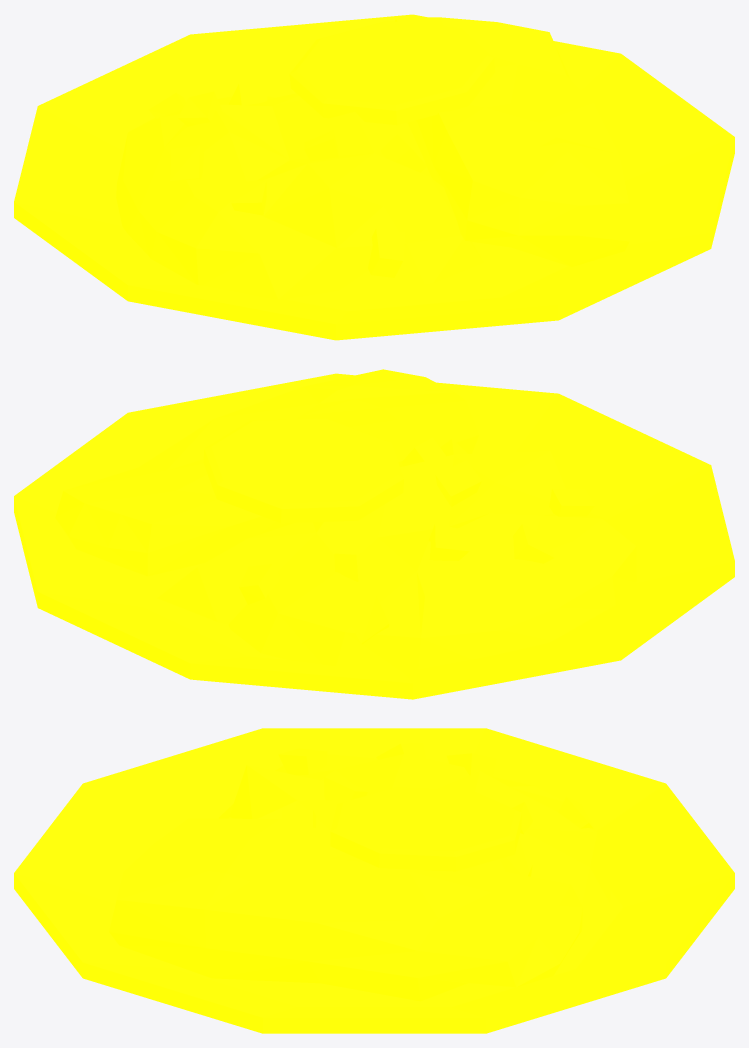
Rendered from plate-dinner-czech-a.glb.
3 views of the same model, one above another, from view 1: azimuth 30°, elevation 25°; view 2: azimuth 150°, elevation 25°; view 3: azimuth 270°, elevation 25° (orthographic). The views are drawn at different scales.
Visible parts, largest first — view 1: plate_dinner_czech_a; view 2: plate_dinner_czech_a; view 3: plate_dinner_czech_a.
Part boxes in pixels (x1,y1,x2,y2): plate_dinner_czech_a: (14,14,734,340); plate_dinner_czech_a: (14,369,734,699); plate_dinner_czech_a: (14,728,734,1033).
Bounding box in the file's own units: 0.2995 × 0.0628 × 0.315.
1 material, 1 textured.
